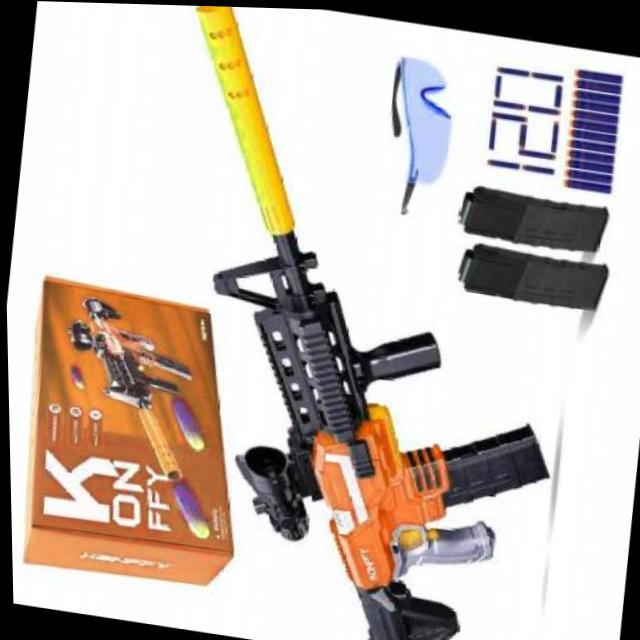weapon: (116, 3, 601, 640), (42, 292, 235, 540)
